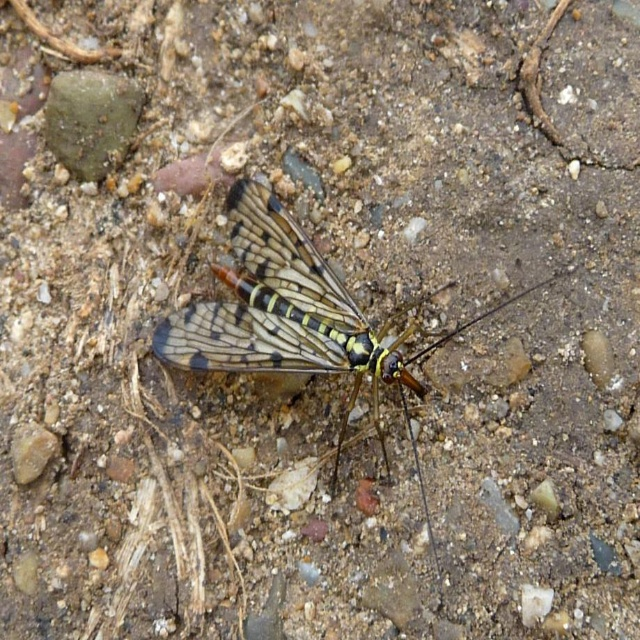Moths and butterflies: (152, 172, 568, 580)
